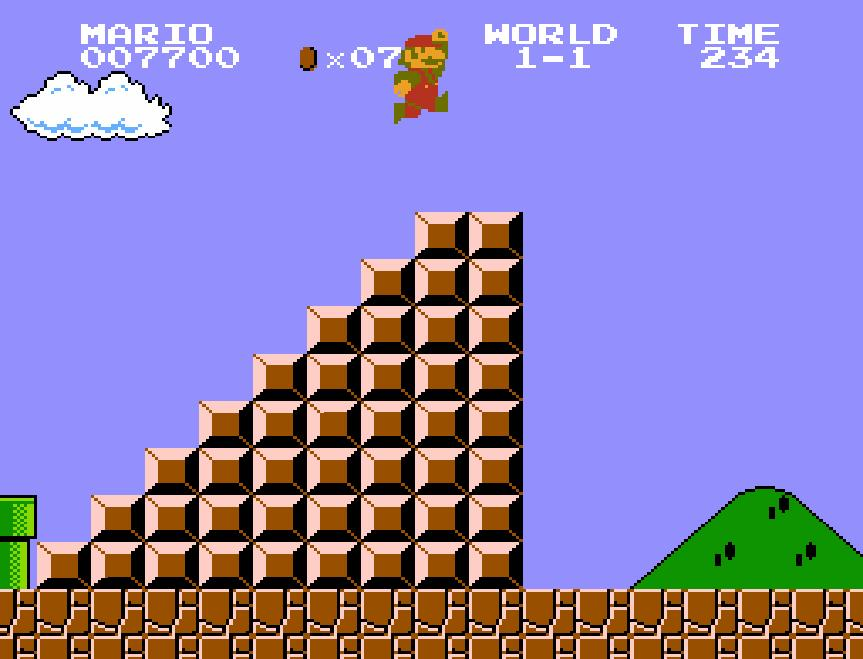big_mario: (392, 26, 450, 125)
